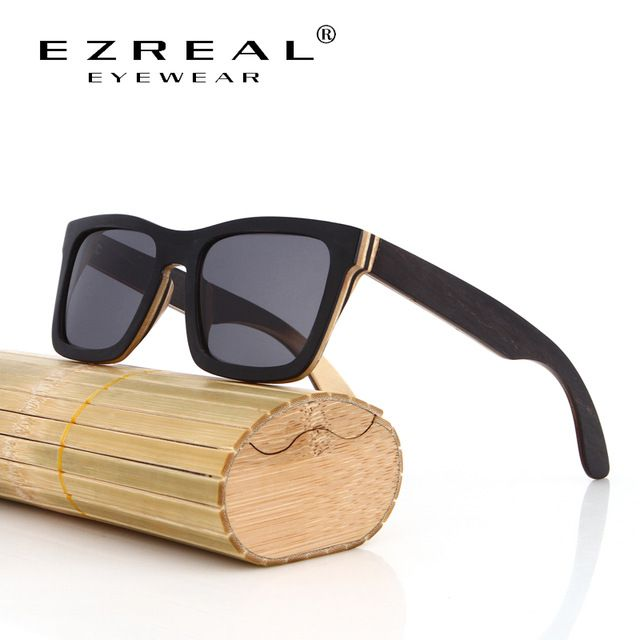sunglasses: (35, 197, 620, 471)
